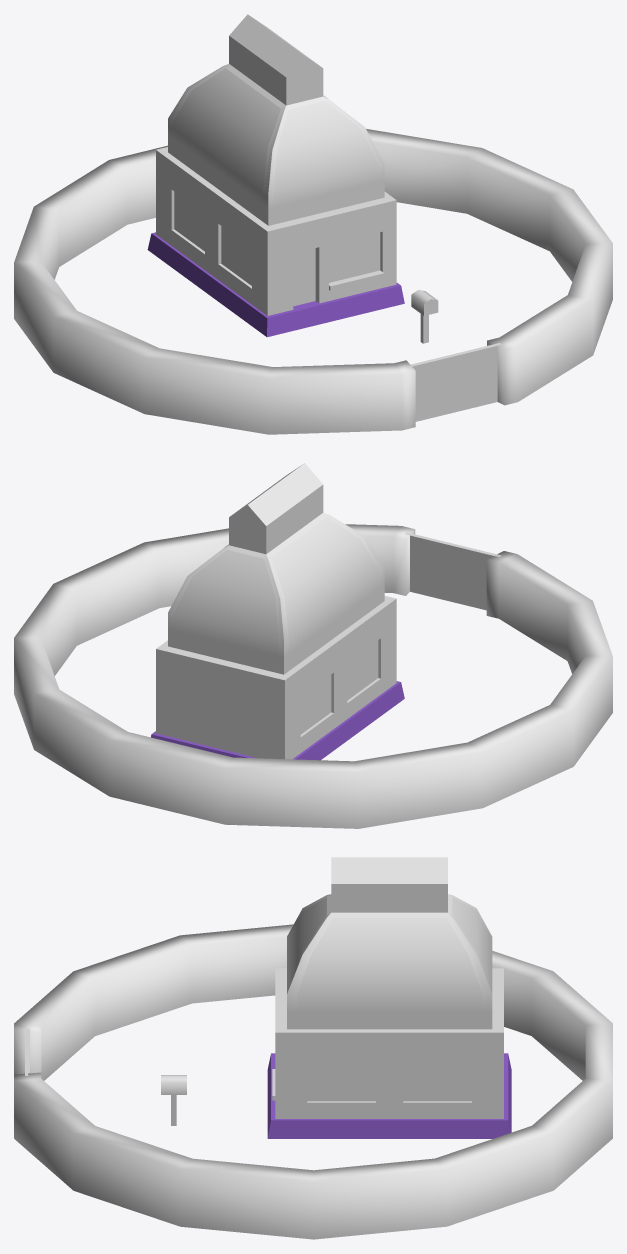
Rendered from TreeMasterHouse.fbx.
The picture shows the model from 3 angles, top to bottom: view 1: azimuth 30°, elevation 25°; view 2: azimuth 150°, elevation 25°; view 3: azimuth 270°, elevation 25°; orthographic projection. The views are drawn at different scales.
Parts seen in each view (by area): view 1: Hedge, Home, Fence, Mailbox; view 2: Hedge, Home, Fence; view 3: Hedge, Home, Mailbox.
Boxes of the visible parts, box(x1,y1,x2,y2) form: Hedge: box(14, 129, 612, 434); Home: box(147, 14, 404, 337); Fence: box(406, 343, 501, 421); Mailbox: box(411, 289, 438, 343); Hedge: box(14, 524, 612, 828); Home: box(151, 463, 404, 760); Fence: box(405, 532, 501, 610); Hedge: box(14, 924, 612, 1239); Home: box(267, 857, 511, 1138); Mailbox: box(161, 1075, 186, 1125).
Bounding box in the file's own units: 48.4 × 21.94 × 47.2.
